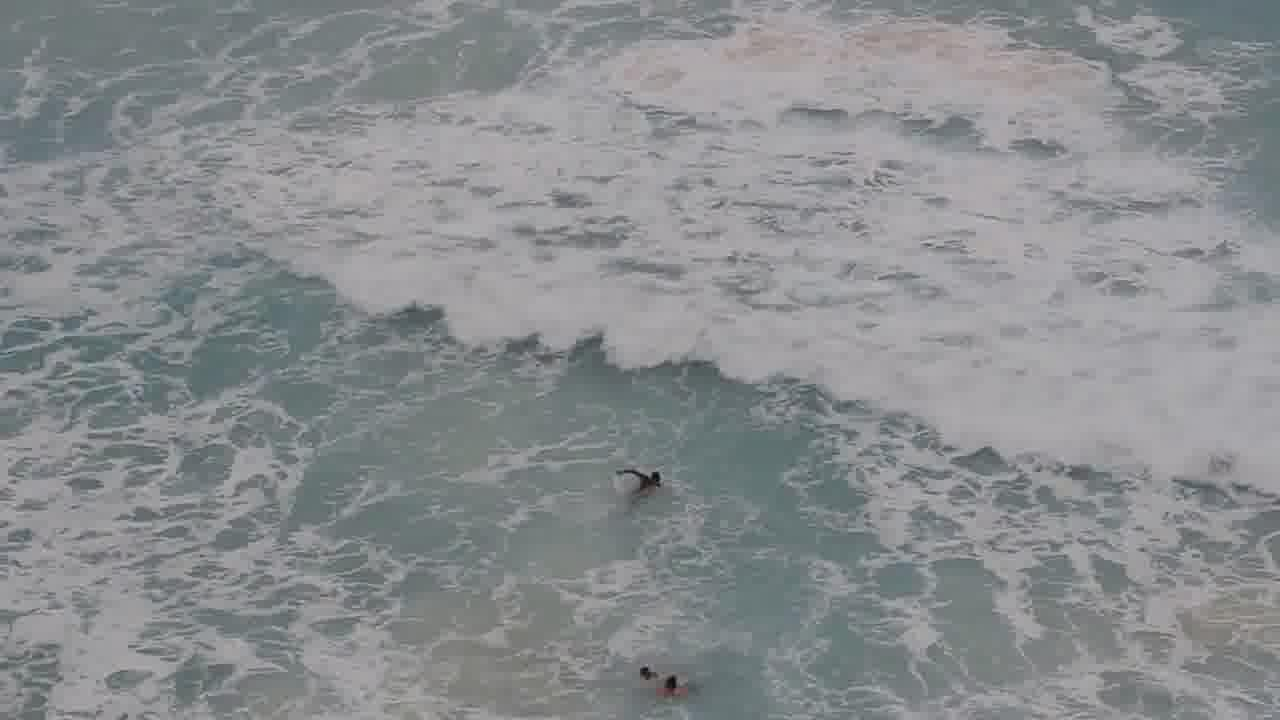human: (638, 456, 683, 511), (669, 666, 682, 699), (639, 655, 655, 680)
